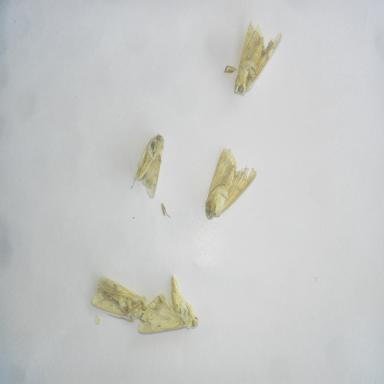abw: (202, 143, 261, 228), (134, 268, 205, 336), (230, 15, 284, 99), (88, 272, 152, 326), (127, 131, 167, 203)
